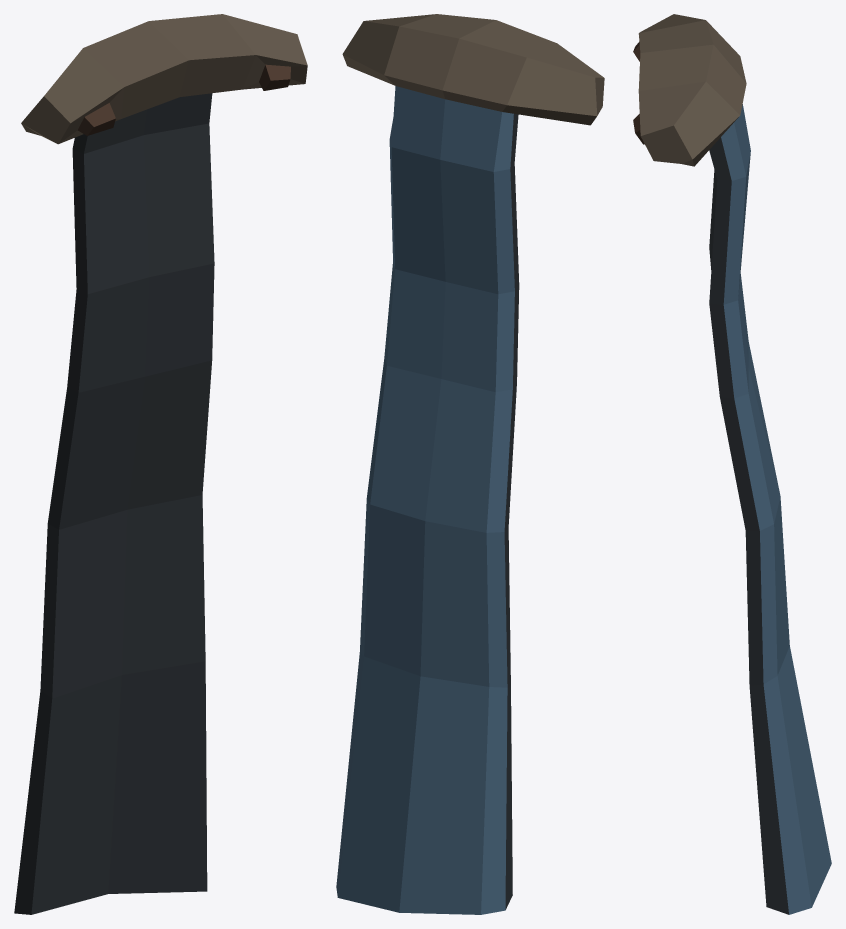
The model's file is Chr_BackAttachment_07_Static.fbx.
The picture shows the model from 3 angles, left to right: view 1: azimuth 30°, elevation 25°; view 2: azimuth 150°, elevation 25°; view 3: azimuth 270°, elevation 25°; orthographic projection. The views are drawn at different scales.
Parts seen in each view (by area): view 1: Chr_BackAttachment_07_Static; view 2: Chr_BackAttachment_07_Static; view 3: Chr_BackAttachment_07_Static.
Boxes of the visible parts, left/top/right/bottom form: Chr_BackAttachment_07_Static: left=14, top=14, right=307, bottom=914; Chr_BackAttachment_07_Static: left=336, top=14, right=604, bottom=914; Chr_BackAttachment_07_Static: left=633, top=14, right=831, bottom=914.
Bounding box in the file's own units: 0.4344 × 1.37 × 0.2975.
